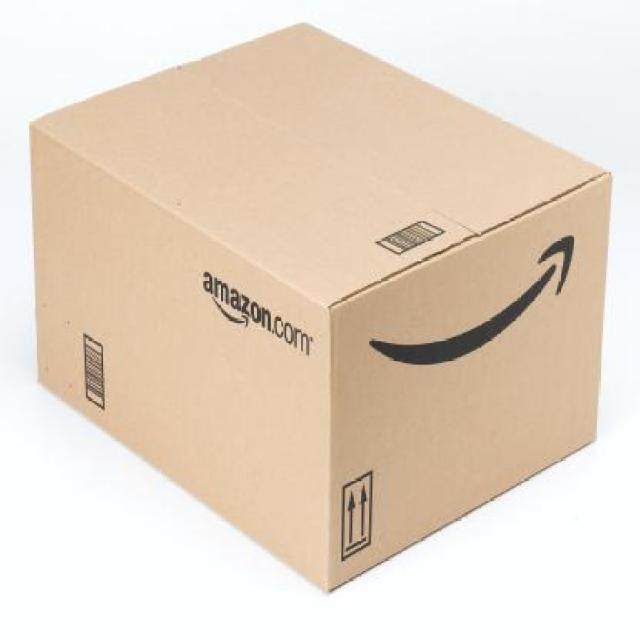box: (26, 13, 622, 604)
